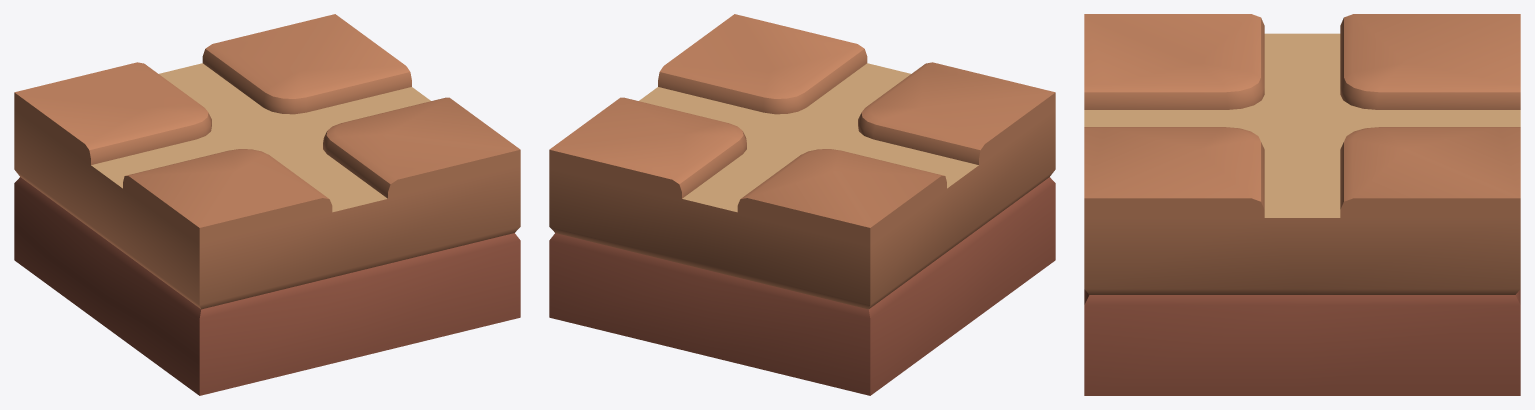
Rendered from square_rock_roadE_detail.glb.
3 renders of one model, left to right at view 1: azimuth 30°, elevation 25°; view 2: azimuth 150°, elevation 25°; view 3: azimuth 270°, elevation 25°, orthographic. The views are drawn at different scales.
Visible parts, largest first — view 1: square_rock_roadE_detail; view 2: square_rock_roadE_detail; view 3: square_rock_roadE_detail.
Boxes of the visible parts, x1,y1,x2,y2 form: square_rock_roadE_detail: (14, 14, 520, 395); square_rock_roadE_detail: (549, 14, 1055, 395); square_rock_roadE_detail: (1084, 14, 1520, 395).
Bounding box in the file's own units: 2 × 1 × 2.
